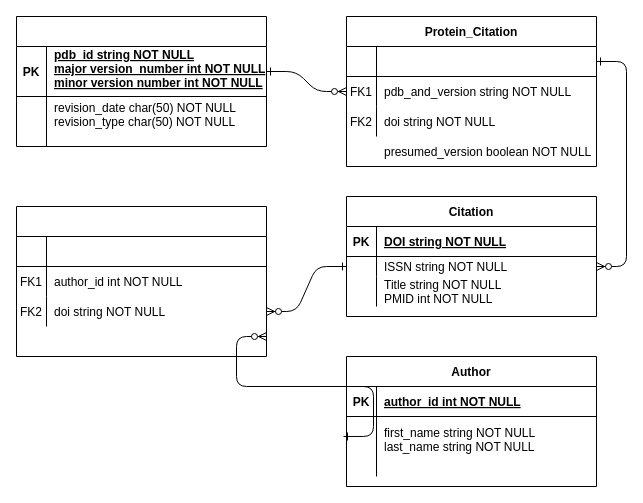
The diagram is 643 pixels wide and 503 high, and some of its shapes have lost their labels. The shapes that lost their labels are listed below. From the top down, each one's box as (x1, y1, x2, y2) in pixels, then its label:
(16, 16, 266, 146): Proteins
(16, 206, 266, 356): Authorship
